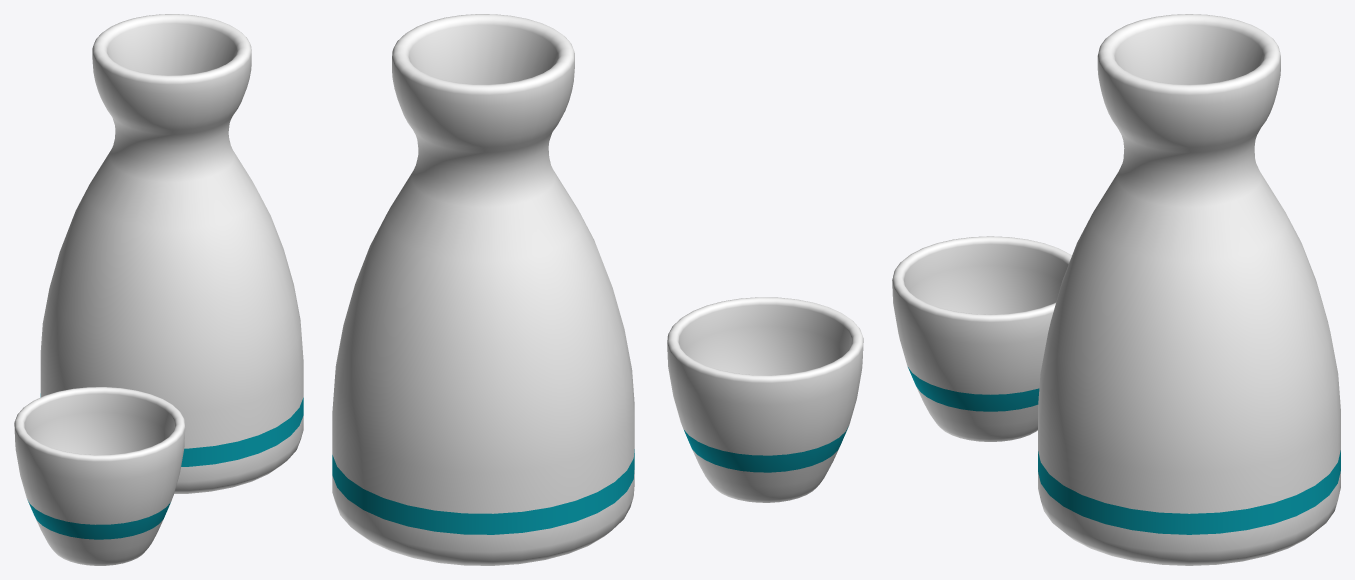
The model's file is sake.glb.
3 renders of one model, left to right at view 1: azimuth 30°, elevation 25°; view 2: azimuth 150°, elevation 25°; view 3: azimuth 270°, elevation 25°, orthographic. The views are drawn at different scales.
Visible parts, largest first — view 1: Circle.2275; view 2: Circle.2275; view 3: Circle.2275.
Boxes of the visible parts, bbox=[...] form: Circle.2275: bbox=[14, 14, 303, 565]; Circle.2275: bbox=[332, 14, 863, 565]; Circle.2275: bbox=[892, 14, 1340, 565].
Size of the model in its own units: 1.89 by 2.08 by 1.84.
Materials: 1 (1 with a texture image).
